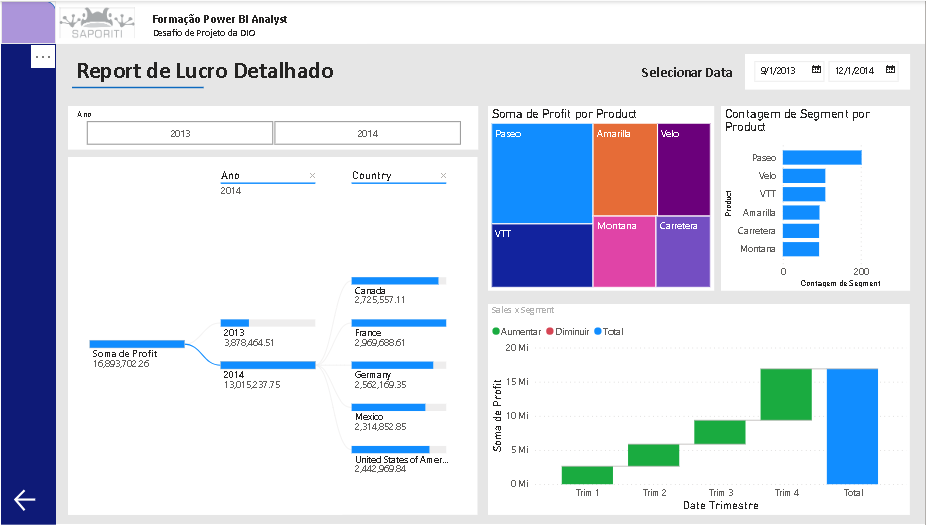

What the dashboard file says about the page in this screenshot:
{"tool":"powerbi","page":{"name":"Duplicata de Página 1","canvas":[1280,720],"ordinal":1},"visuals":[{"type":"shape","box":[49.5,0,1230.5,719.1],"z":0},{"type":"shape","box":[59.1,0,1220.9,59.1],"z":1000},{"type":"shape","box":[9.6,11,75.6,709.4],"z":2000},{"type":"shape","box":[9.6,0,75.6,59.1],"z":3000},{"type":"textbox","box":[213.3,10.2,300.4,49.5],"z":4000},{"type":"textbox","box":[107.5,71.7,406.2,52.9],"z":5000},{"type":"shape","box":[107.2,114.1,181.5,9.6],"z":6000},{"type":"clusteredBarChart","title":"Sales x Segment","fields":{"Y":["Sum(financials. Sales)"],"Category":["financials.Segment"]},"box":[101.7,448.2,376.7,258.5],"z":7000},{"type":"slicer","title":"Sales x Segment","fields":{"Values":["Sheet1.Date.Variation.Hierarquia de datas.Ano"]},"box":[101.7,144.4,563.7,60.5],"z":8000},{"type":"waterfallChart","title":"Sales x Segment","fields":{"Category":["Sheet1.Date.Variation.Hierarquia de datas.Trimestre"],"Y":["Sum(Sheet1.Profit)"]},"box":[697.1,416.6,558.2,290.1],"z":9000},{"type":"slicer","fields":{"Values":["financials.Date"]},"box":[1033,72.9,226.9,49.5],"z":10000},{"type":"decompositionTreeVisual","title":"Sales x Segment","fields":{"Analyze":["Sum(Sheet1.Profit)"],"ExplainBy":["Sheet1.Date.Variation.Hierarquia de datas.Ano","Sheet1.Country"]},"box":[102.4,215,563.2,491.5],"z":11000},{"type":"textbox","box":[870.8,81.1,149.9,37.1],"z":12000},{"type":"image","box":[85.3,0,112.6,59.7],"z":13000},{"type":"actionButton","box":[23.9,667.3,51.2,39.3],"z":14000}]}

Visuals, with their boxes on the page's 1280x720 design canvas (x1, y1, x2, y2). These are canvas units, not pixel positions in the 926x525 screenshot, which may show the page scaled, cropped or inside an application window:
shape: detection(50, 0, 1280, 719)
shape: detection(59, 0, 1280, 59)
shape: detection(10, 11, 85, 720)
shape: detection(10, 0, 85, 59)
textbox: detection(213, 10, 514, 60)
textbox: detection(108, 72, 514, 125)
shape: detection(107, 114, 289, 124)
"Sales x Segment" clusteredBarChart: detection(102, 448, 478, 707)
"Sales x Segment" slicer: detection(102, 144, 665, 205)
"Sales x Segment" waterfallChart: detection(697, 417, 1255, 707)
slicer - financials.Date: detection(1033, 73, 1260, 122)
"Sales x Segment" decompositionTreeVisual: detection(102, 215, 666, 706)
textbox: detection(871, 81, 1021, 118)
image: detection(85, 0, 198, 60)
actionButton: detection(24, 667, 75, 707)
